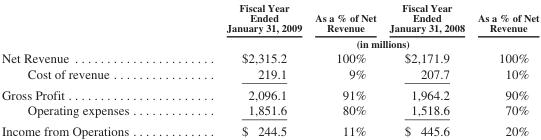table: (1, 1, 538, 137)
table column: (1, 1, 177, 137), (177, 1, 307, 137), (382, 1, 470, 137), (307, 1, 382, 137), (470, 1, 538, 137)
table column header: (1, 1, 538, 49)
table row: (1, 1, 538, 35), (1, 65, 538, 83), (1, 83, 538, 101), (1, 101, 538, 119), (1, 119, 538, 137), (1, 49, 538, 65), (1, 35, 538, 49)
table spanning cell: (177, 35, 538, 49)
